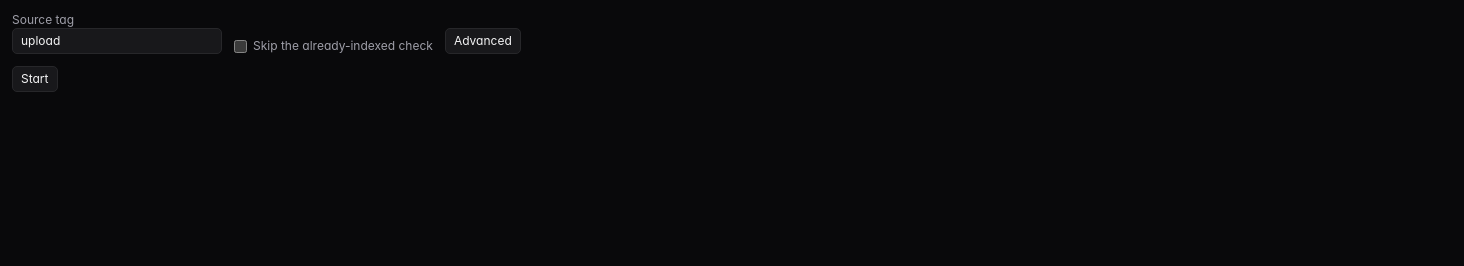
Test: IngestRunPanel › shows the served embedding totals and the not-embedded files
This screenshot has width=1464, height=266.
Click the button "Start" at (35, 79), box [12,66,58,92]
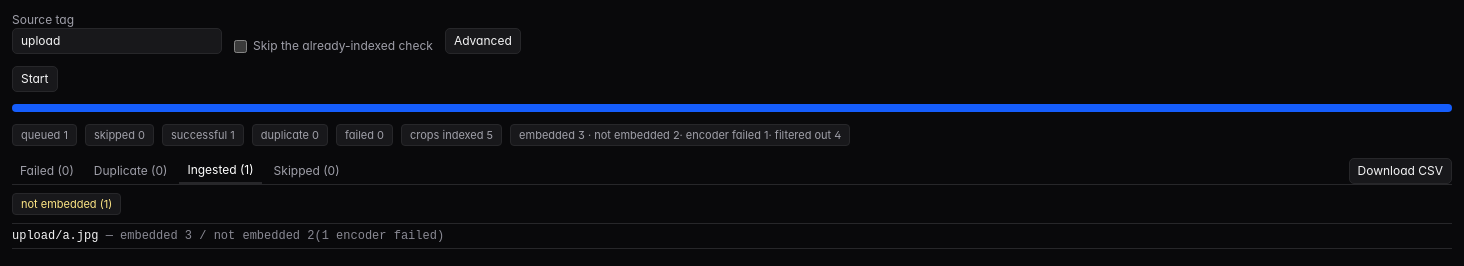
Expected: the text with test id "ingest-embedding-totals" is shown, [510,124,850,146]
Expected: the text with test id "ingest-embedding-totals" shows "embedded 3", [519,128,680,142]
Expected: the text with test id "ingest-embedding-totals" shows "not embedded 2", [519,128,680,142]
